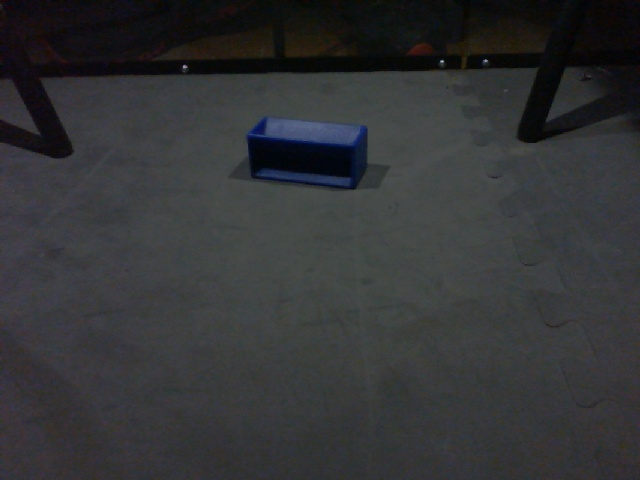BlueSample: (245, 113, 374, 193)
